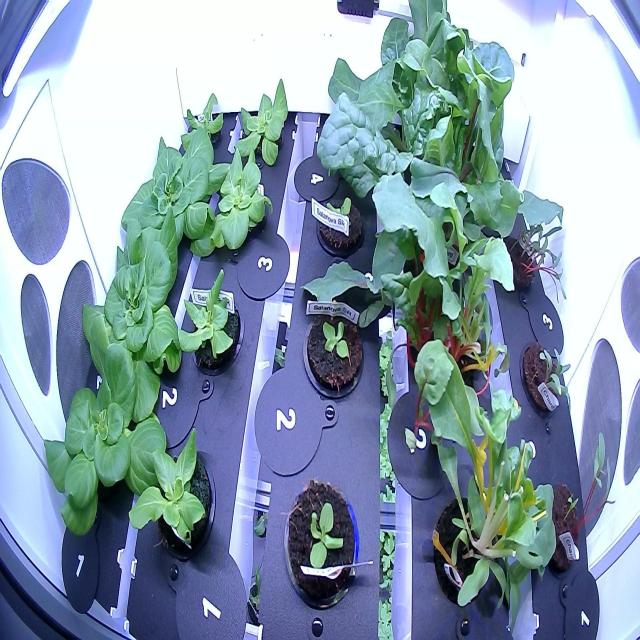germination: (519, 331, 578, 423)
young: (30, 342, 165, 539), (76, 204, 192, 406), (116, 124, 221, 279), (277, 467, 373, 614), (127, 419, 220, 562), (295, 286, 375, 412), (195, 141, 278, 259), (170, 262, 245, 378), (224, 75, 297, 176), (311, 178, 370, 261), (175, 87, 230, 159)
